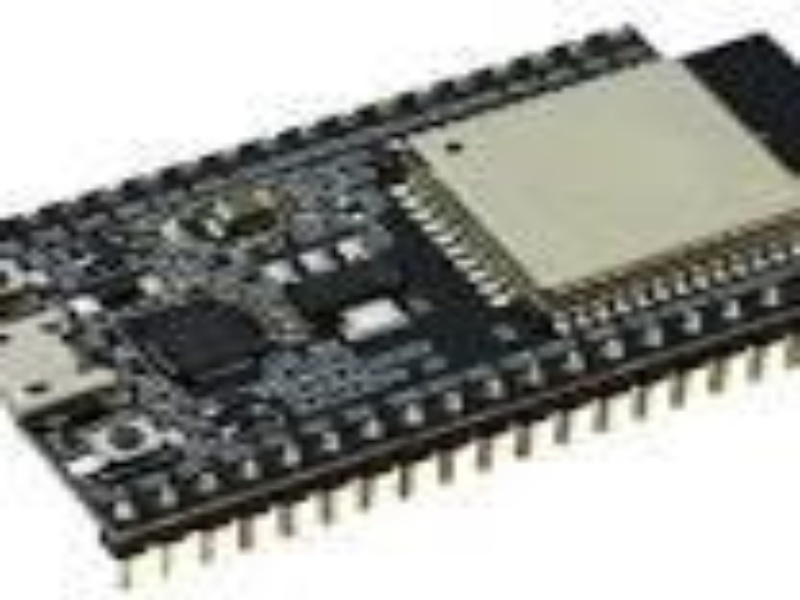esp32: (10, 29, 794, 506)
